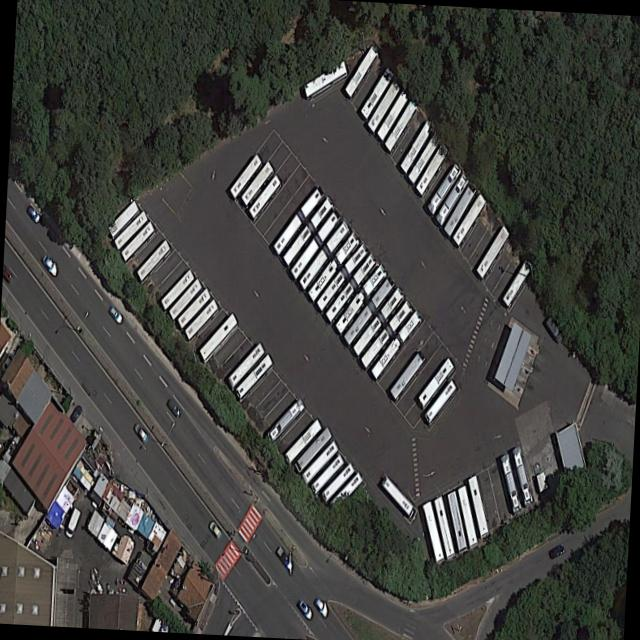large-vehicle: (315, 242, 368, 312), (352, 287, 404, 358), (272, 186, 324, 257), (289, 208, 340, 280), (325, 253, 376, 324), (335, 264, 386, 335), (298, 219, 349, 290), (282, 196, 333, 267), (370, 310, 421, 381), (360, 300, 412, 369), (307, 231, 358, 301), (343, 276, 394, 346), (475, 224, 510, 279), (198, 313, 237, 362), (451, 193, 486, 247), (417, 357, 454, 408), (226, 341, 265, 389), (234, 353, 273, 401), (360, 65, 394, 120), (366, 79, 400, 134), (434, 172, 468, 227), (442, 183, 476, 238), (266, 398, 305, 445), (284, 418, 322, 466), (426, 163, 460, 216), (399, 120, 432, 174), (384, 99, 417, 153), (414, 143, 447, 197), (389, 351, 425, 400), (293, 427, 331, 473), (300, 440, 338, 486), (344, 46, 377, 98), (375, 90, 408, 142), (407, 133, 440, 185), (303, 60, 346, 98), (176, 286, 211, 330), (328, 471, 363, 515), (183, 298, 217, 342), (228, 154, 261, 199), (423, 379, 456, 424), (501, 259, 531, 308), (136, 240, 170, 283), (310, 453, 344, 496), (160, 269, 194, 311), (168, 279, 202, 321), (113, 210, 148, 250), (241, 162, 272, 207), (249, 175, 280, 220), (380, 475, 413, 517), (422, 500, 444, 562), (120, 222, 154, 262), (321, 462, 354, 503), (499, 454, 521, 514), (433, 496, 454, 558), (510, 447, 532, 506), (467, 476, 488, 537), (446, 492, 467, 552), (457, 486, 477, 546), (107, 202, 138, 238)
small-vehicle: (62, 505, 82, 541), (273, 544, 293, 574), (39, 252, 59, 279), (294, 595, 314, 622), (164, 394, 181, 421), (311, 596, 329, 620), (106, 303, 123, 327), (131, 421, 148, 445), (25, 204, 41, 227), (67, 403, 83, 426), (206, 519, 222, 542), (547, 543, 565, 562)
